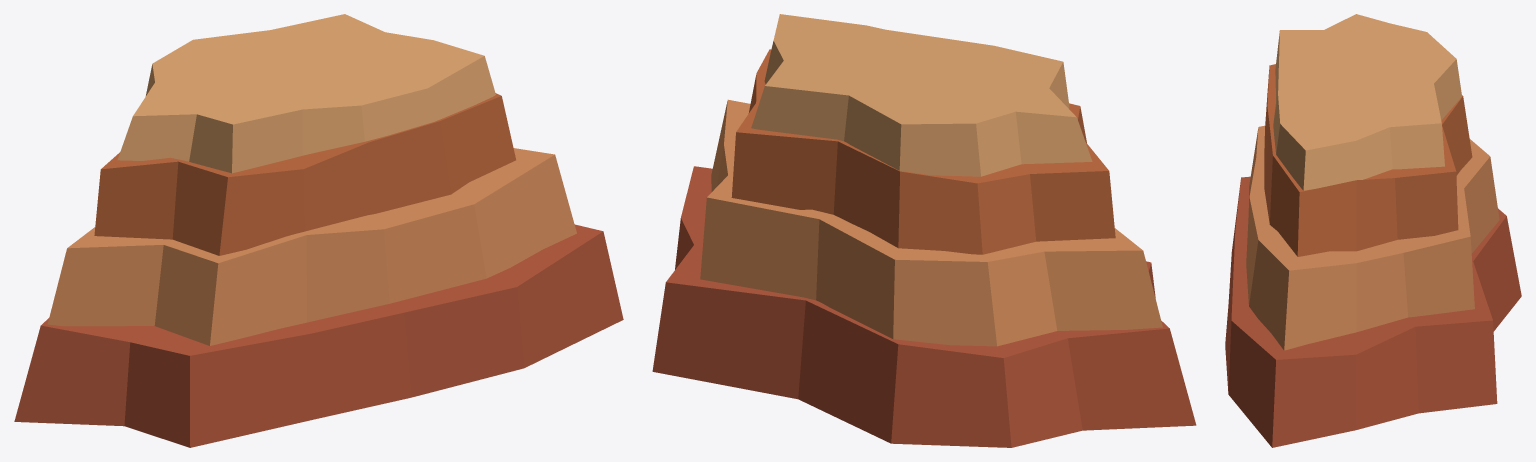
File: journey_mesa.glb
3 renders of one model, left to right at view 1: azimuth 30°, elevation 25°; view 2: azimuth 150°, elevation 25°; view 3: azimuth 270°, elevation 25°, orthographic. The views are drawn at different scales.
Visible parts, largest first — view 1: Mesa_body; view 2: Mesa_body; view 3: Mesa_body.
Part boxes in pixels (x1,y1,x2,y2): Mesa_body: (14,14,623,447); Mesa_body: (652,14,1196,447); Mesa_body: (1225,14,1521,447).
Bounding box in the file's own units: 67.14 × 32.71 × 34.89.
